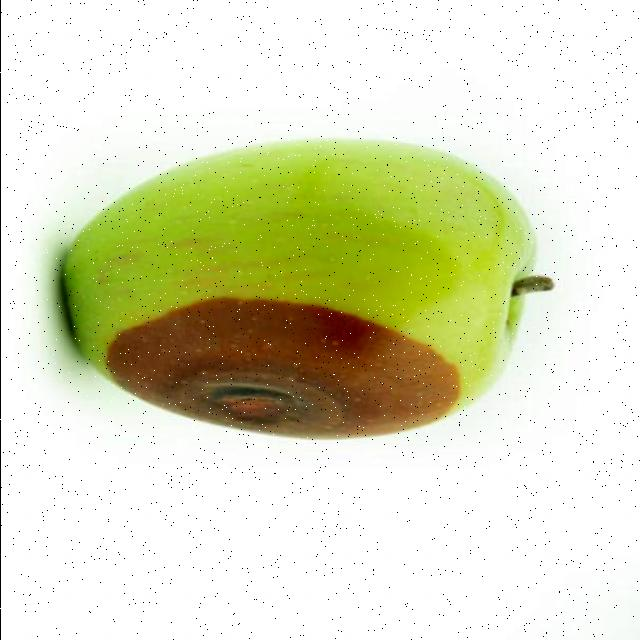ROT: (56, 123, 558, 460)
